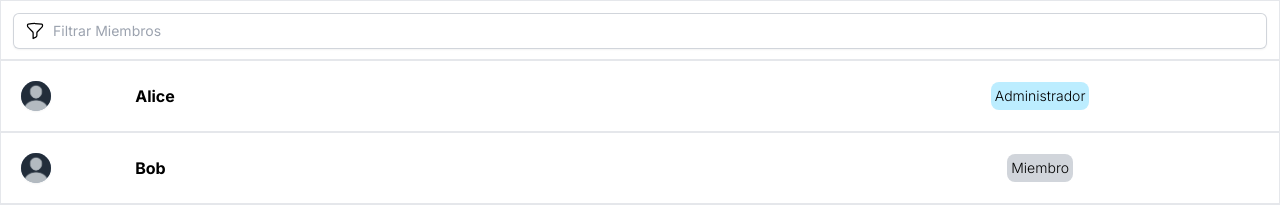
Test: Members Component › renders filter input and can filter members
Check: the text "Alice" is shown, box [135,86,175,106]
# Filter members by name
Type "Alice" into the field with placeholder "Filtrar Miembros" at (640, 31), box [13,13,1267,49]
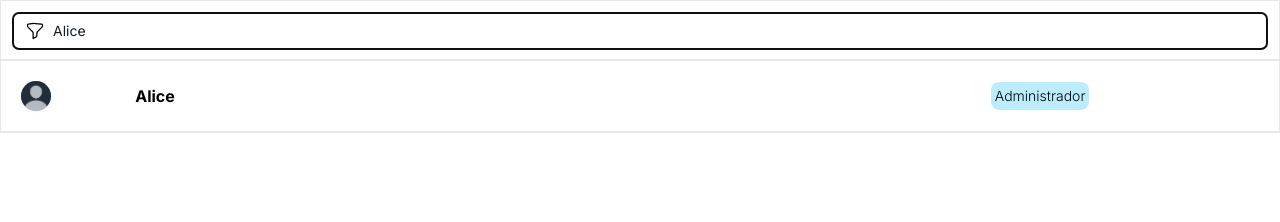
Check: the text "Alice" is shown, box [135,86,175,106]
Check: the link "Bob" is gone
